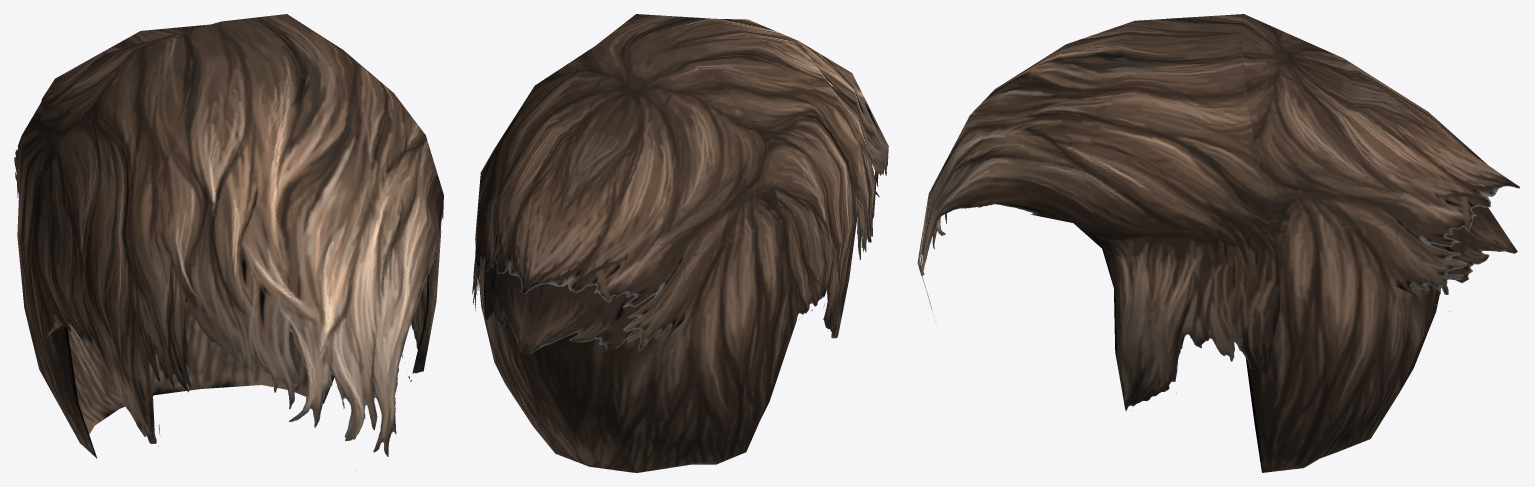
File: F_jichuduanfa.FBX
3 renders of one model, left to right at view 1: azimuth 30°, elevation 25°; view 2: azimuth 150°, elevation 25°; view 3: azimuth 270°, elevation 25°, orthographic. The views are drawn at different scales.
Visible parts, largest first — view 1: F_jichuduanfa; view 2: F_jichuduanfa; view 3: F_jichuduanfa.
Boxes of the visible parts, x1,y1,x2,y2 form: F_jichuduanfa: (14, 14, 443, 470); F_jichuduanfa: (472, 14, 888, 472); F_jichuduanfa: (917, 14, 1519, 472).
Size of the model in its own units: 16.1 by 19.03 by 26.61.
